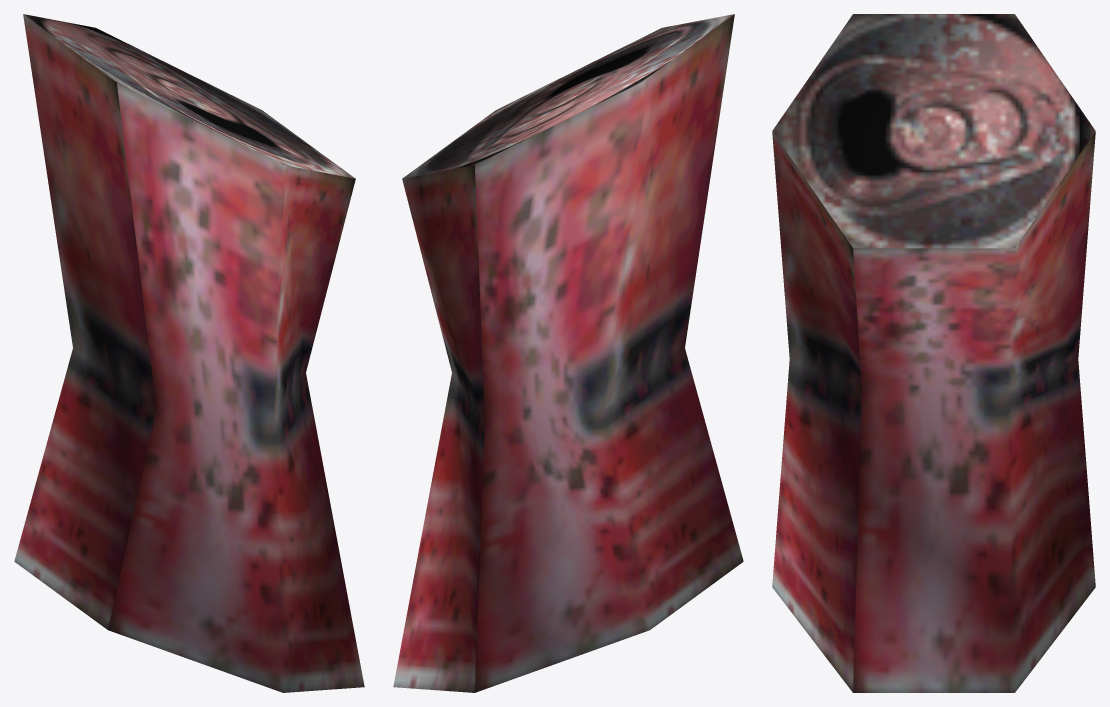
File: can_1_crushed.glb
3 views of the same model, side by side, from view 1: azimuth 30°, elevation 25°; view 2: azimuth 150°, elevation 25°; view 3: azimuth 270°, elevation 25° (orthographic). The views are drawn at different scales.
Parts seen in each view (by area): view 1: Can_1_Crushed; view 2: Can_1_Crushed; view 3: Can_1_Crushed.
Part boxes in pixels (left/top/right/bottom): Can_1_Crushed: left=14, top=14, right=364, bottom=692; Can_1_Crushed: left=393, top=14, right=743, bottom=692; Can_1_Crushed: left=772, top=14, right=1095, bottom=692.
Size of the model in its own units: 0.1787 by 0.4424 by 0.2259.
1 material, 1 textured.
